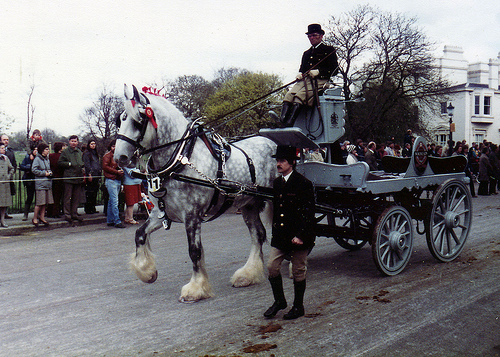horse: (112, 84, 294, 304)
